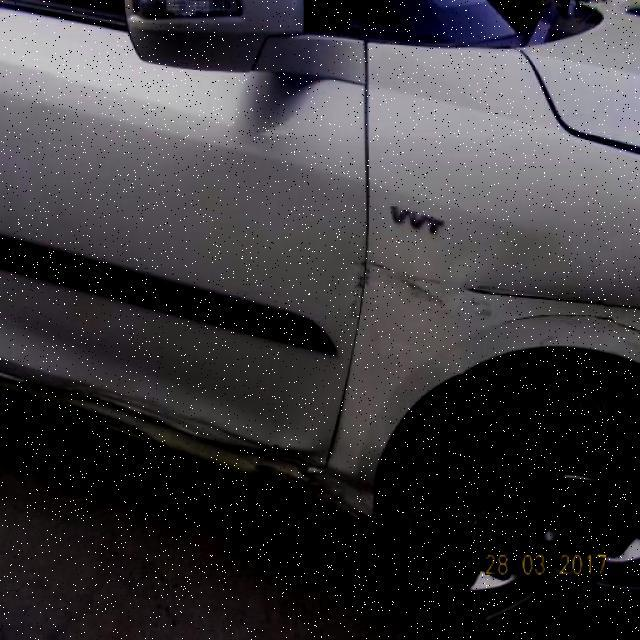car damage: (0, 375, 378, 528), (468, 278, 640, 342), (400, 262, 450, 310), (350, 259, 388, 317)
